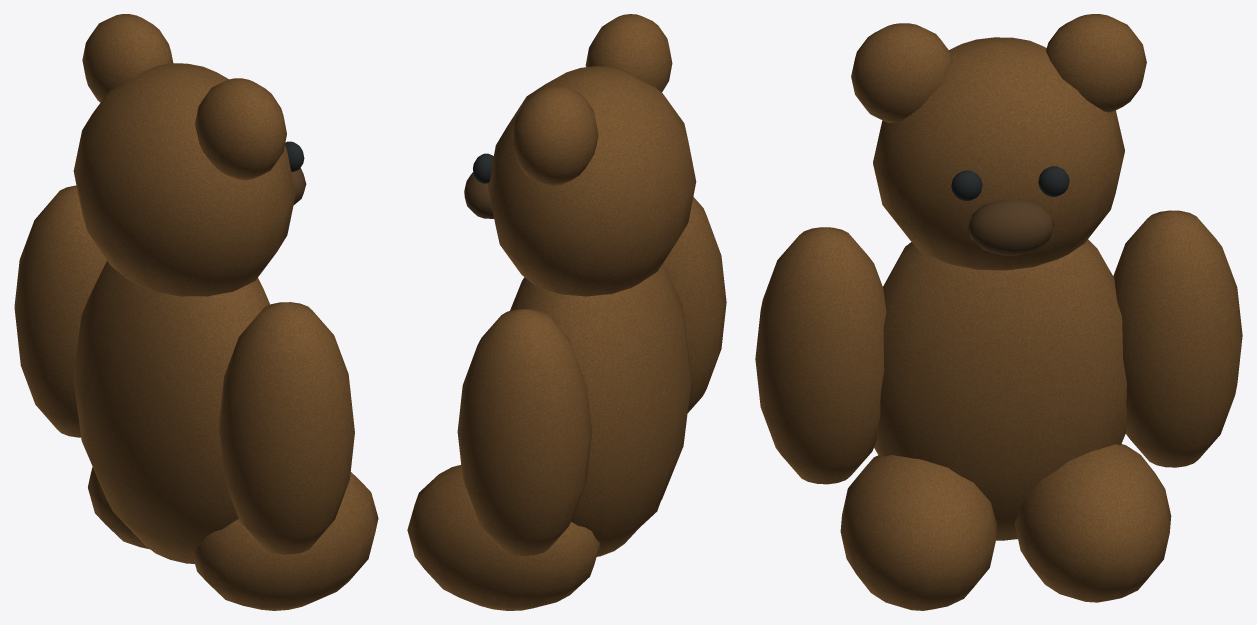
Rendered from SM_TeddyPrize_a07b6da92e.fbx.
The picture shows the model from 3 angles, left to right: view 1: azimuth 30°, elevation 25°; view 2: azimuth 150°, elevation 25°; view 3: azimuth 270°, elevation 25°; orthographic projection. The views are drawn at different scales.
Visible parts, largest first — view 1: SM_TeddyPrize_a07b6da92e; view 2: SM_TeddyPrize_a07b6da92e; view 3: SM_TeddyPrize_a07b6da92e.
Part boxes in pixels (<box>): SM_TeddyPrize_a07b6da92e: <box>14,14,378,610</box>; SM_TeddyPrize_a07b6da92e: <box>407,14,726,610</box>; SM_TeddyPrize_a07b6da92e: <box>755,14,1242,610</box>.
Size of what is drawn, in the model's own units: 31.4 by 54.72 by 67.85.
Materials: 3 (1 with a texture image).
